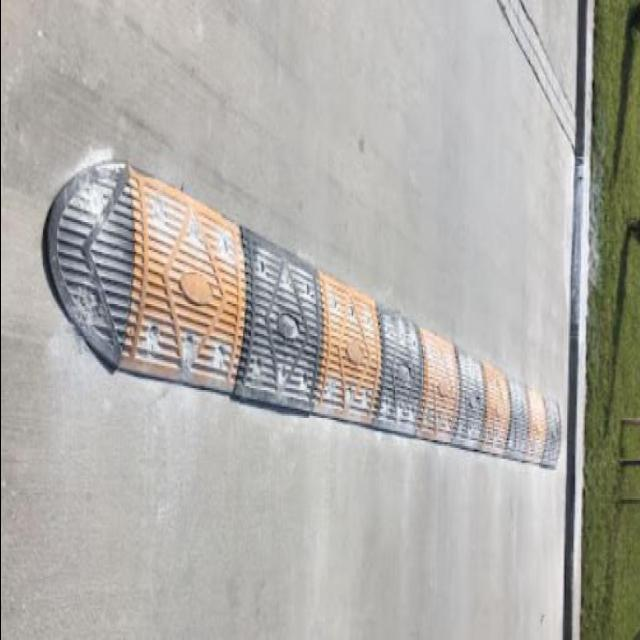speedbreaker: (41, 157, 565, 470)
